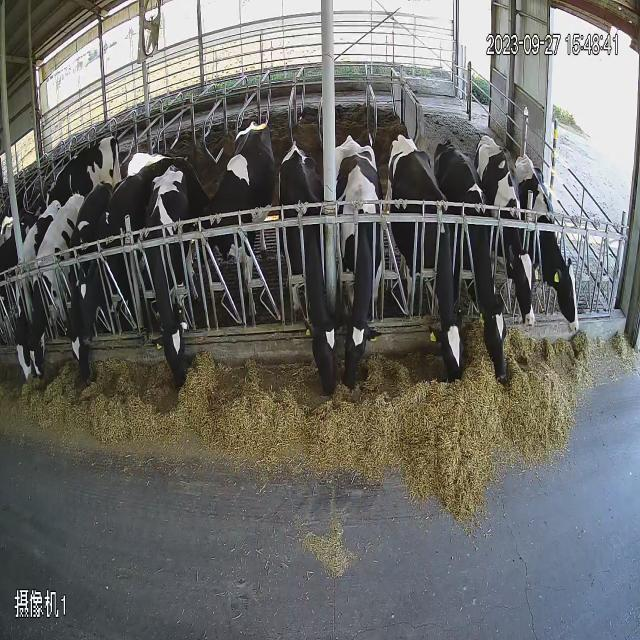feeding: (388, 104, 512, 417), (277, 112, 384, 410), (70, 162, 140, 394), (8, 150, 62, 406), (148, 148, 197, 406)
